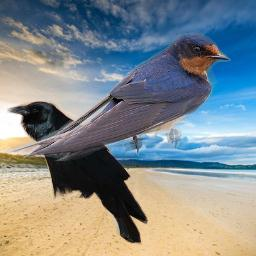Crow: (7, 101, 148, 245)
Swallow: (3, 31, 231, 161)
